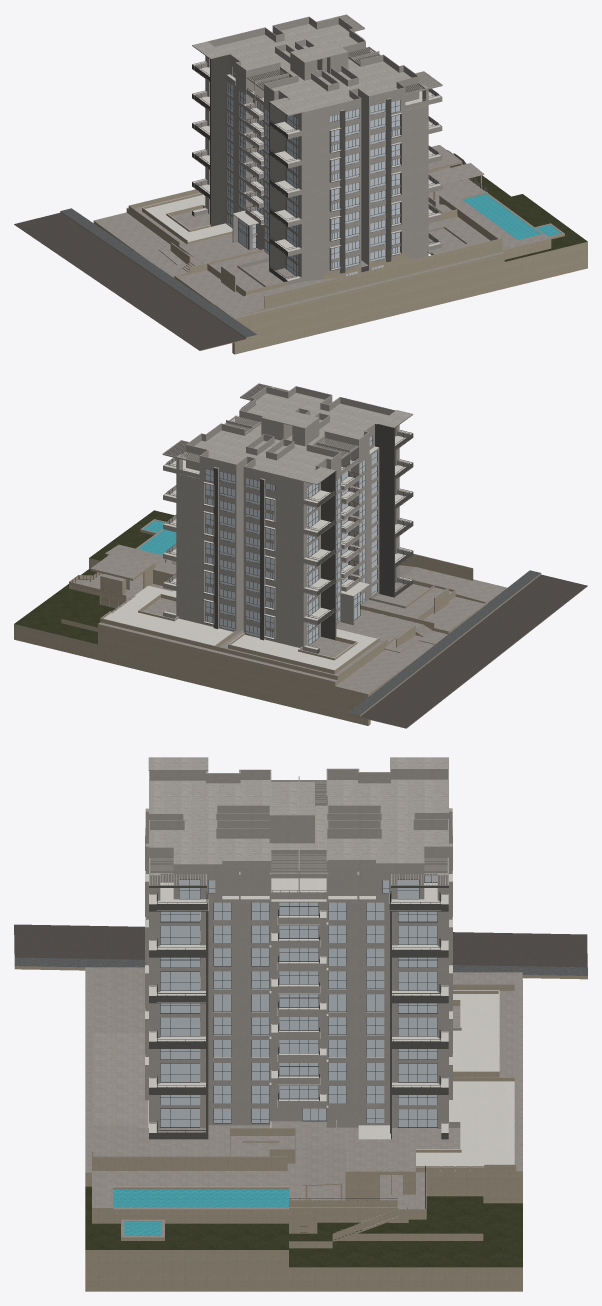
The model's file is monarca.glb.
3 views of the same model, one above another, from view 1: azimuth 30°, elevation 25°; view 2: azimuth 150°, elevation 25°; view 3: azimuth 270°, elevation 25° (orthographic). The views are drawn at different scales.
Visible parts, largest first — view 1: Monarca; view 2: Monarca; view 3: Monarca.
Boxes of the visible parts, x1,y1,x2,y2 form: Monarca: (14, 14, 587, 354); Monarca: (14, 383, 587, 728); Monarca: (14, 757, 587, 1291).
Bounding box in the file's own units: 82.48 × 41.45 × 63.6.
12 materials, 10 textured.
